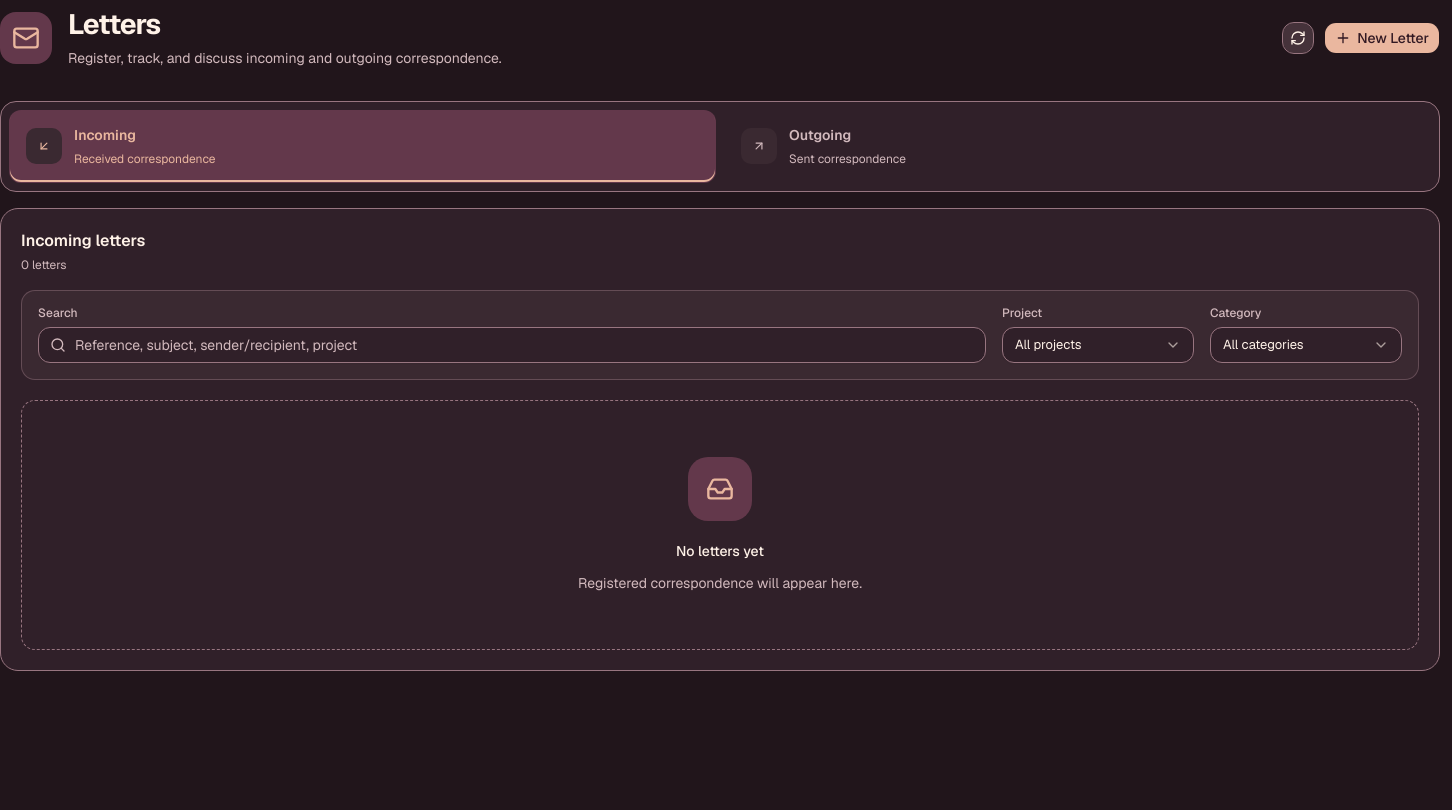
it: LettersManager presentation controls › clears search and category together and requests the first unfiltered page
Expected: the text "0 letters" is shown, [21,257,66,273]
Type "venue" into the search field labelled "Search".
click(512, 345); type("venue")  # box [38,327,986,363]
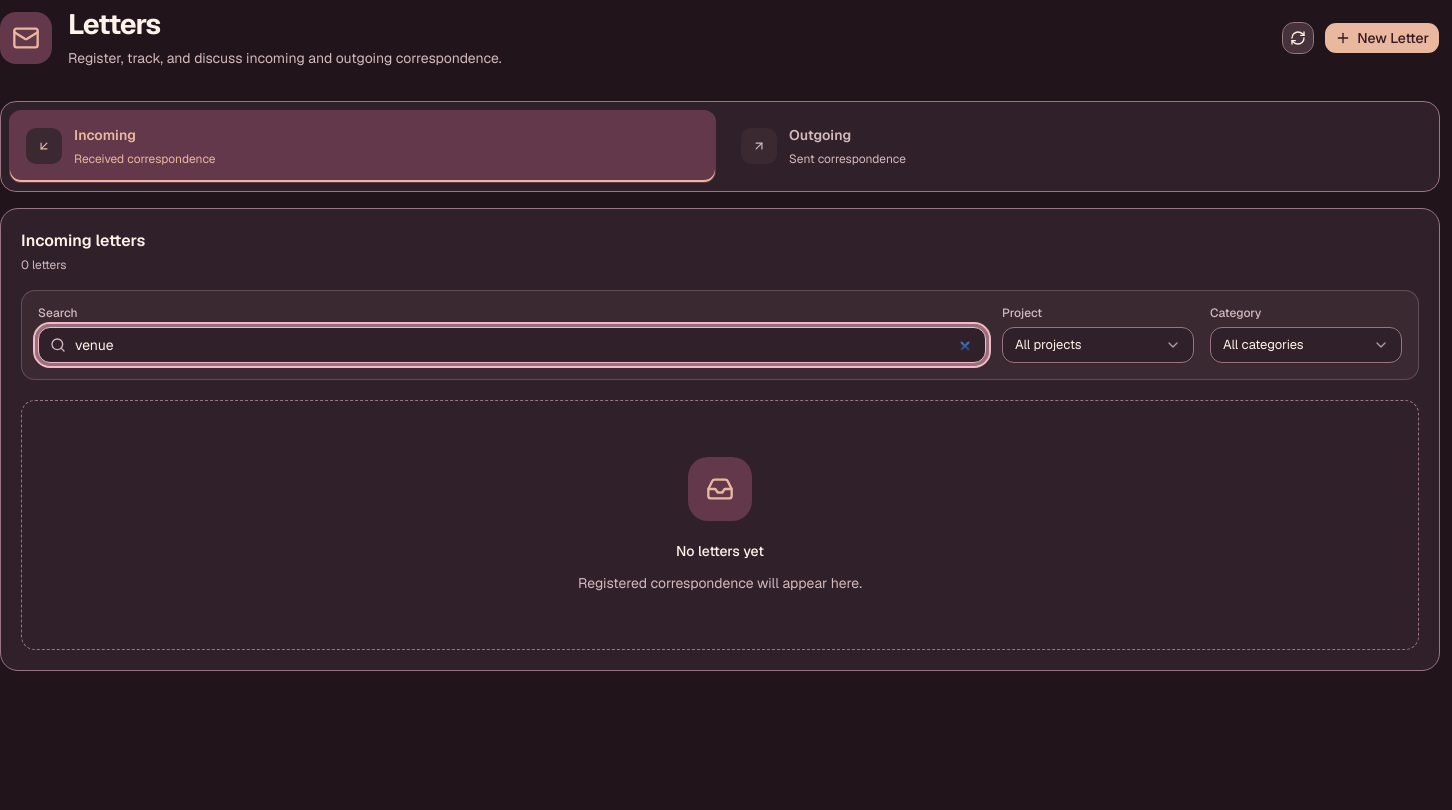
Click the dropdown named "Filter by category".
click(1306, 345)  # box [1210,327,1402,363]
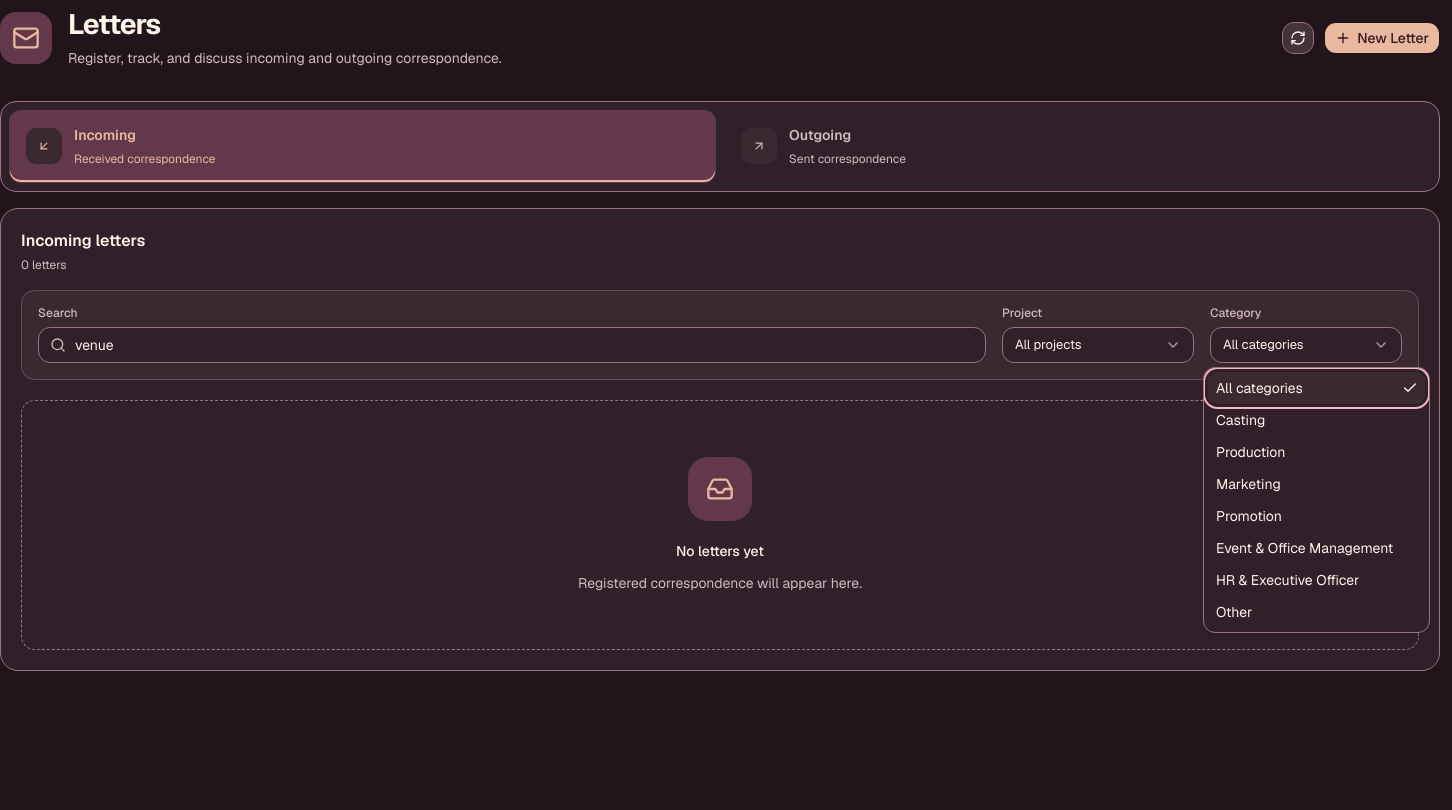
Click the option "Marketing".
click(1248, 484)  # box [1216,475,1281,493]
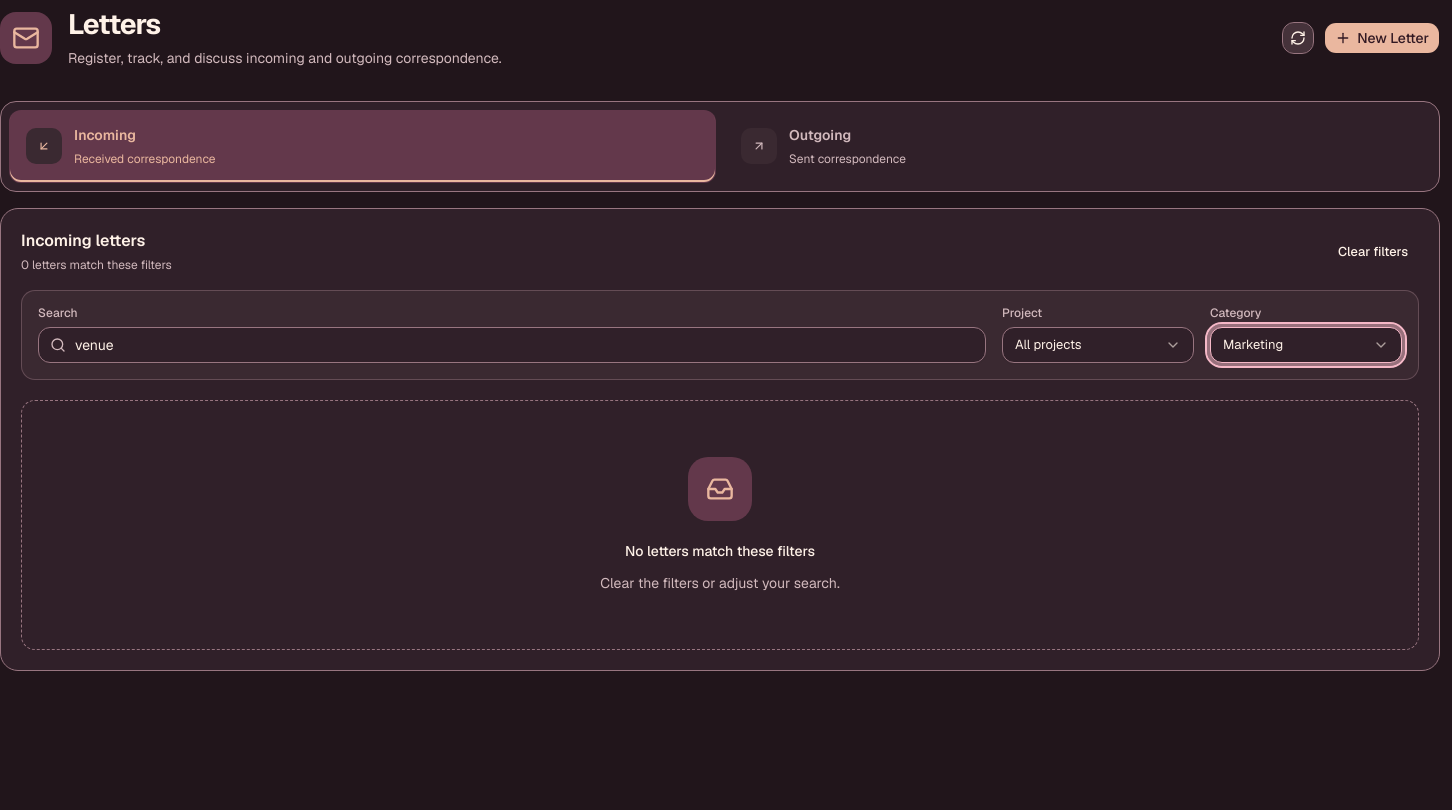
Click the button "Clear filters".
click(1373, 252)  # box [1327,238,1419,266]
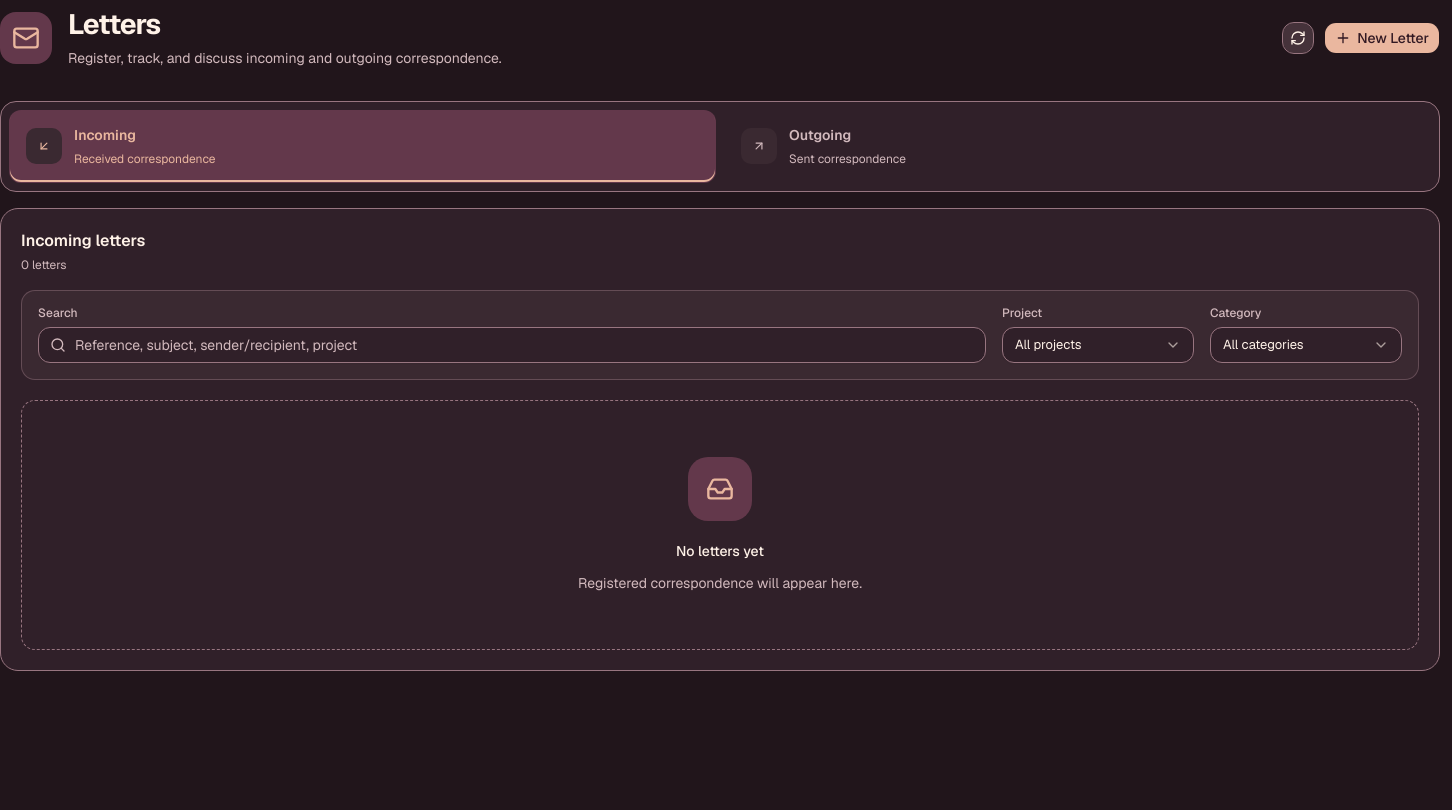
Expected: the search field labelled "Search" is empty, [38,327,986,363]
Expected: the button "Clear filters" is gone
